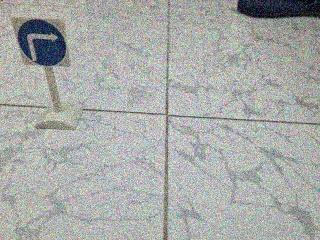right: (9, 7, 81, 78)
